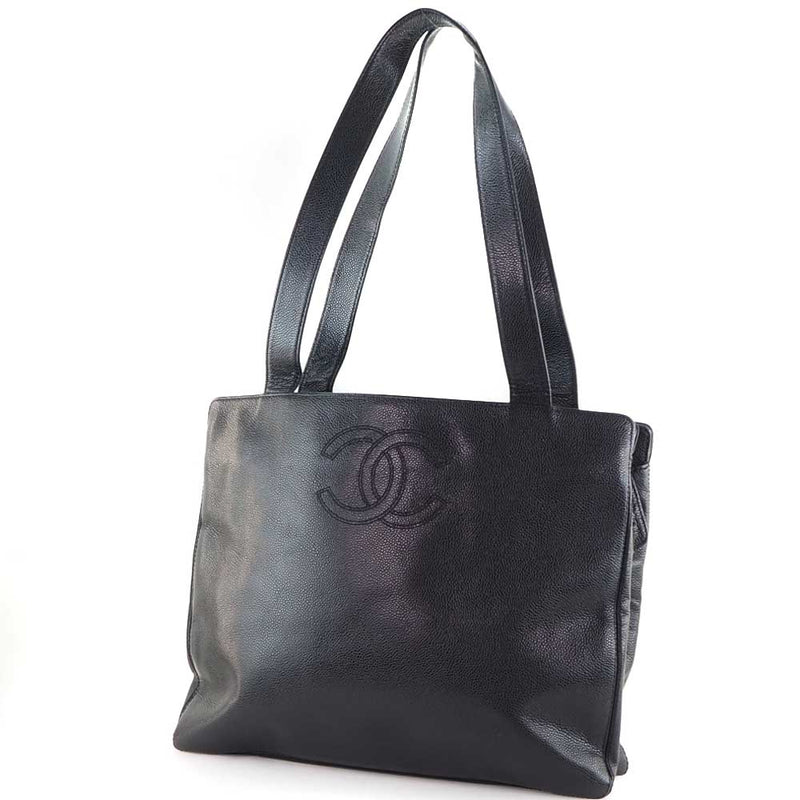channel: (112, 320, 655, 800), (294, 416, 476, 553)
